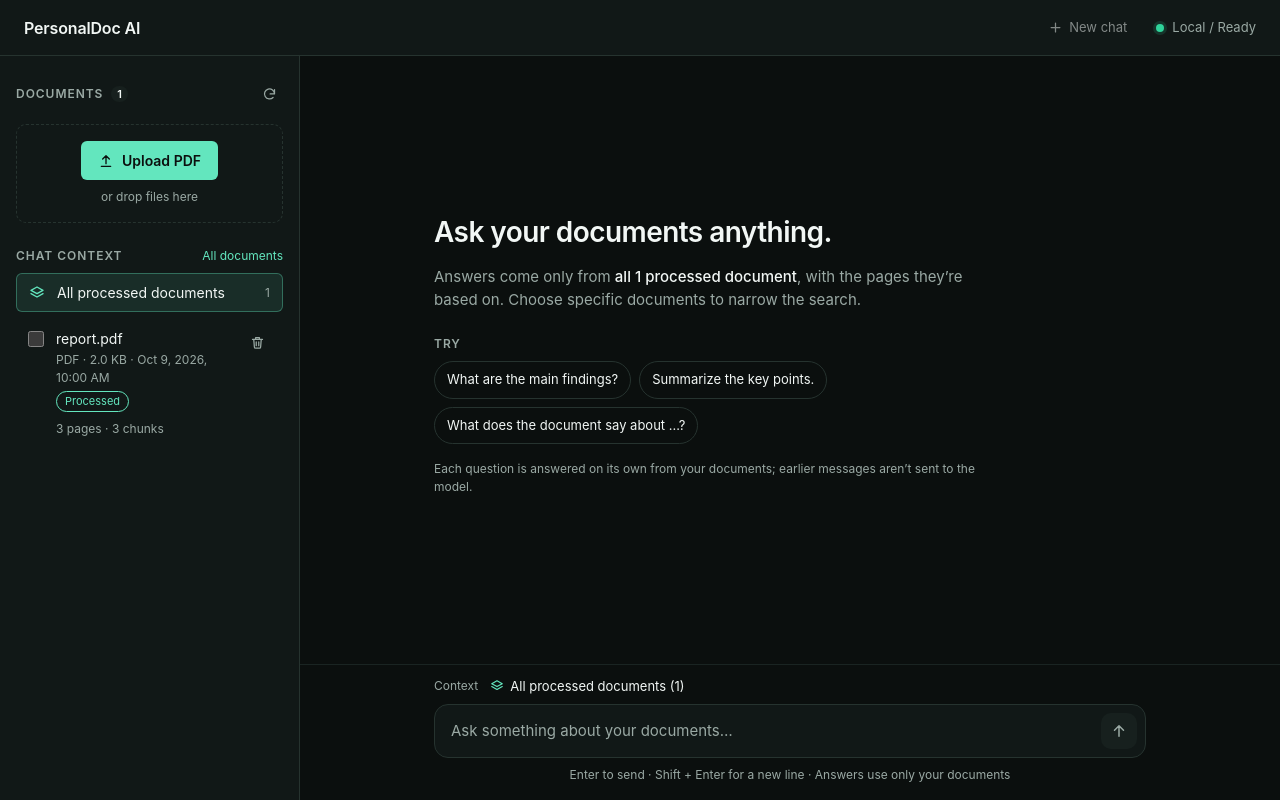
Test: empty states › fills the composer from an example question without sending it
Click the button "Summarize the key points." at (733,380), box [639,361,827,399]
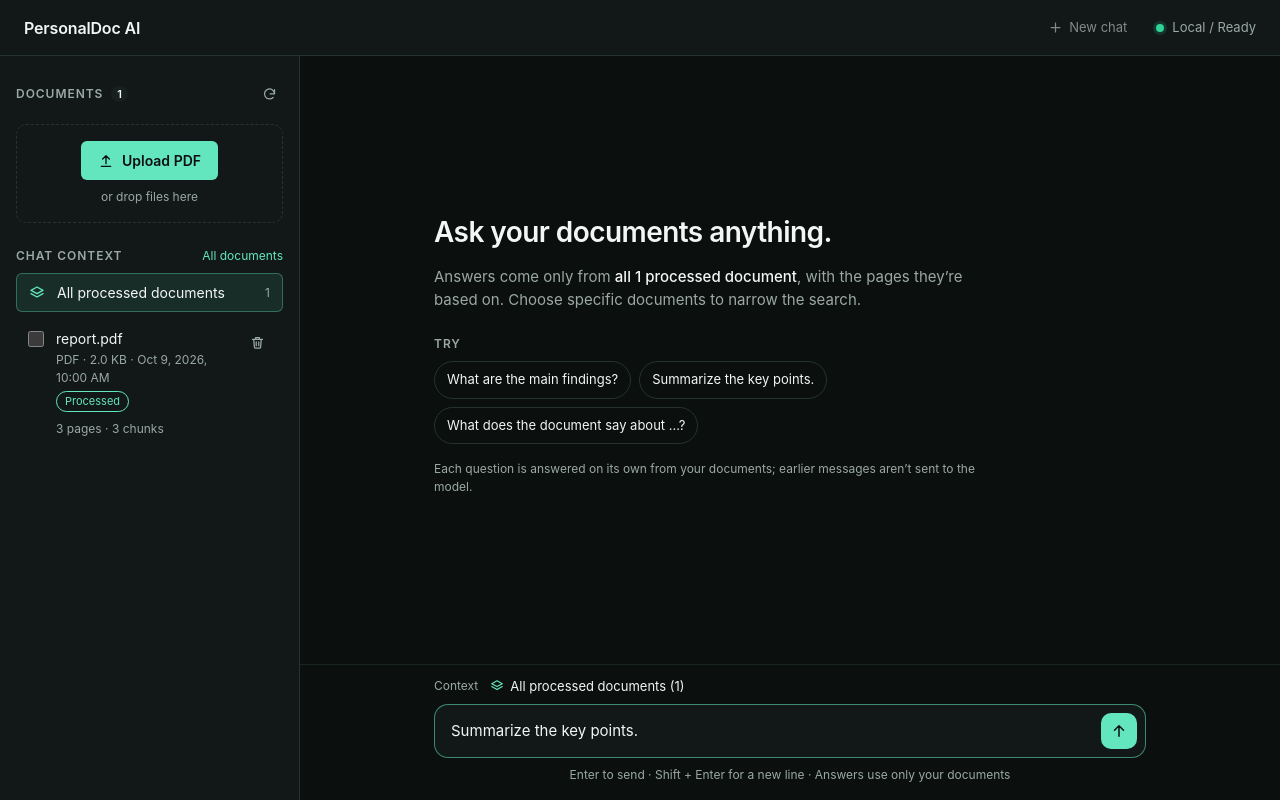
expect the text box named "ask a question about your documents" holds "Summarize the key points.": met, box [451,714,1093,749]
